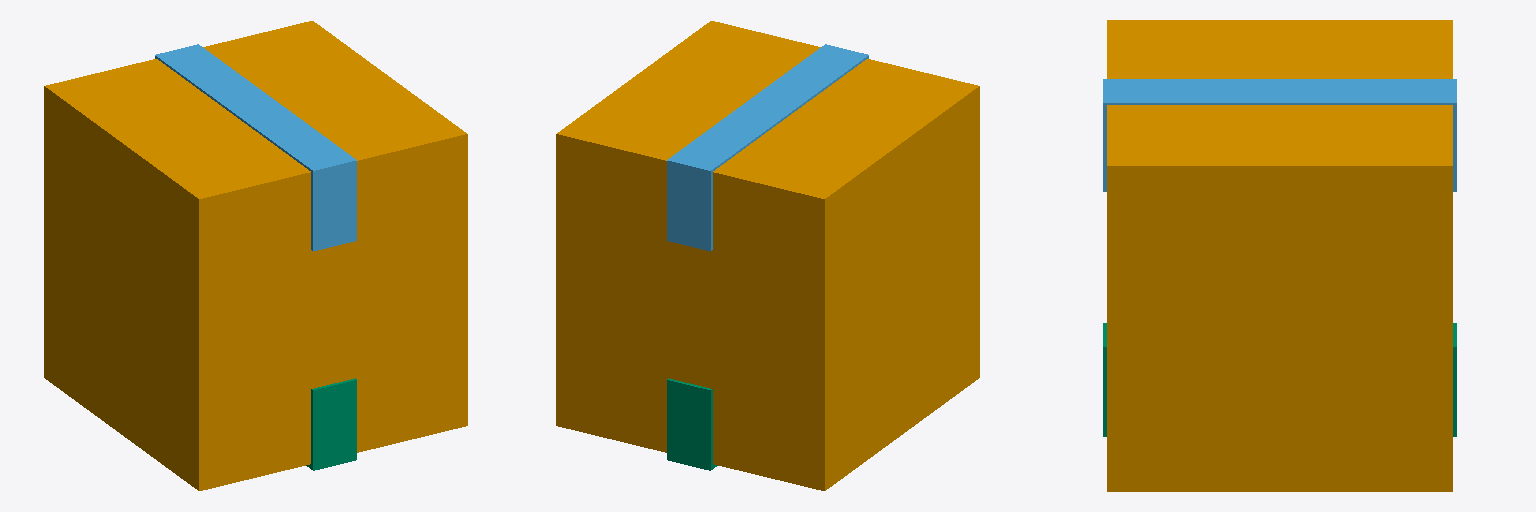
The robot description file, URDF, robot "cardboard_box":
<?xml version="1.0"?>
<robot name="cardboard_box">
  <link name="box">
    <inertial>
        <origin rpy="0 0 0" xyz="0 0 0"/>
        <mass value="3.0"/>
        <inertia ixx="4.4e-5" ixy="0" ixz="0" iyy="0" iyz="0" izz="4.4e-5"/>
    </inertial>
    <visual>
      <geometry>
        <mesh filename="box.obj"/>
      </geometry>
    </visual>
    <collision>
      <geometry>
        <mesh filename="box.obj"/>
      </geometry>
      <surface>
           <bounce restitution_coefficient = "0.1"/>
      </surface>
    </collision>
  </link>
  <link name="top_tape">
    <inertial>
        <origin rpy="0 0 0" xyz="0 0 0"/>
        <mass value="0.005"/>
        <inertia ixx="4.4e-5" ixy="0" ixz="0" iyy="0" iyz="0" izz="4.4e-5"/>
    </inertial>
    <visual>
      <geometry>
        <mesh filename="tape.obj"/>
      </geometry>
    </visual>
    <collision>
      <geometry>
        <mesh filename="tape.obj"/>
      </geometry>
      <surface>
           <bounce restitution_coefficient = "0.1"/>
      </surface>
    </collision>
  </link>
  <link name="bottom_tape">
    <inertial>
        <origin rpy="0 0 0" xyz="0 0 0"/>
        <mass value="0.005"/>
        <inertia ixx="4.4e-5" ixy="0" ixz="0" iyy="0" iyz="0" izz="4.4e-5"/>
    </inertial>
    <visual>
      <geometry>
        <mesh filename="tape.obj"/>
      </geometry>
    </visual>
    <collision>
      <geometry>
        <mesh filename="tape.obj"/>
      </geometry>
      <surface>
           <bounce restitution_coefficient = "0.1"/>
      </surface>
    </collision>
  </link>
  <joint name="box_to_top_tape" type="fixed">
    <parent link="box"/>
    <child link="top_tape"/>
    <origin rpy="0 0 0" xyz="0 0 0.083"/>
  </joint>
  <joint name="box_to_bottom_tape" type="fixed">
    <parent link="box"/>
    <child link="bottom_tape"/>
    <origin rpy="0 0 0" xyz="0 0 -0.083"/>
  </joint>
</robot>

--- Render facts (derived) ---
Views: 3 orthographic renders of the robot side by side, from view 1: azimuth 30°, elevation 25°; view 2: azimuth 150°, elevation 25°; view 3: azimuth 270°, elevation 25°.
Model cardboard_box with 3 links and 2 joints (2 fixed), rooted at box, posed every joint at zero.
Visible links, largest first — view 1: box, top_tape, bottom_tape; view 2: box, top_tape, bottom_tape; view 3: box, top_tape, bottom_tape.
Boxes of the visible links, box(x1,y1,x2,y2) form: box: box(44, 21, 467, 490); top_tape: box(155, 44, 356, 251); bottom_tape: box(306, 378, 356, 470); box: box(556, 21, 979, 490); top_tape: box(667, 44, 868, 251); bottom_tape: box(667, 378, 717, 470); box: box(1107, 20, 1452, 491); top_tape: box(1103, 79, 1456, 191); bottom_tape: box(1103, 323, 1456, 436).
Size in the robot's own frame: 0.2125 by 0.2176 by 0.2269 metres.
Meshes: 2 distinct files referenced, 3 mesh visuals loaded (2 OBJ).
